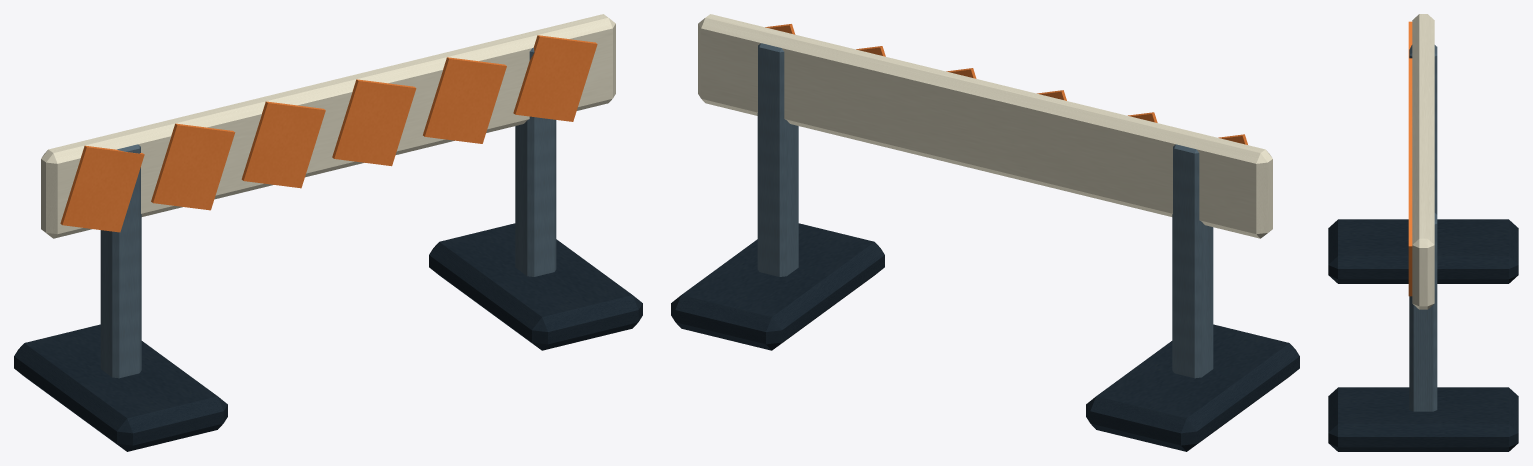
File: street-barrier.glb
The picture shows the model from 3 angles, left to right: view 1: azimuth 30°, elevation 25°; view 2: azimuth 150°, elevation 25°; view 3: azimuth 270°, elevation 25°; orthographic projection. The views are drawn at different scales.
Visible parts, largest first — view 1: street-barrier; view 2: street-barrier; view 3: street-barrier.
Boxes of the visible parts, bbox=[...] form: street-barrier: bbox=[14, 14, 642, 451]; street-barrier: bbox=[671, 14, 1299, 451]; street-barrier: bbox=[1328, 14, 1518, 451].
Bounding box in the file's own units: 1.95 × 0.8928 × 0.68.
Materials: 2 (2 with a texture image).
